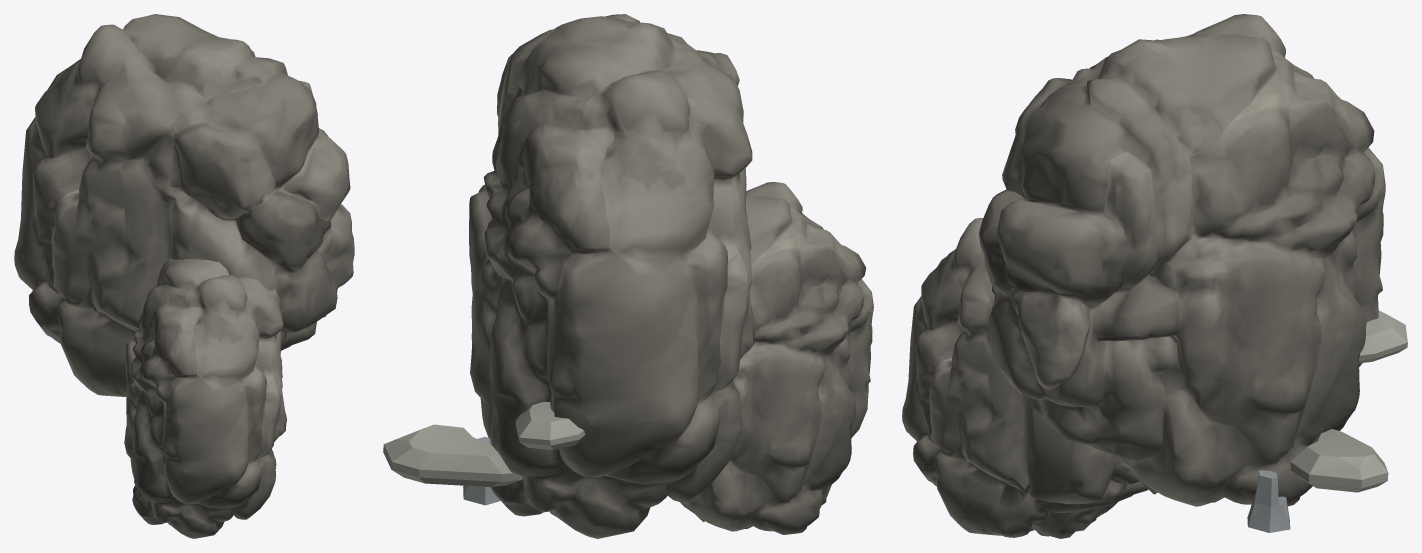
Rendered from cell_x3_z2_render.gltf.
The picture shows the model from 3 angles, left to right: view 1: azimuth 30°, elevation 25°; view 2: azimuth 150°, elevation 25°; view 3: azimuth 270°, elevation 25°; orthographic projection. The views are drawn at different scales.
Visible parts, largest first — view 1: cell_x3_z2; view 2: cell_x3_z2; view 3: cell_x3_z2.
Boxes of the visible parts, x1=… form: cell_x3_z2: x1=14, y1=14, x2=354, y2=538; cell_x3_z2: x1=383, y1=14, x2=873, y2=538; cell_x3_z2: x1=902, y1=14, x2=1407, y2=538.
Bounding box in the file's own units: 14.69 × 25.06 × 22.07.
5 materials, 1 textured.
